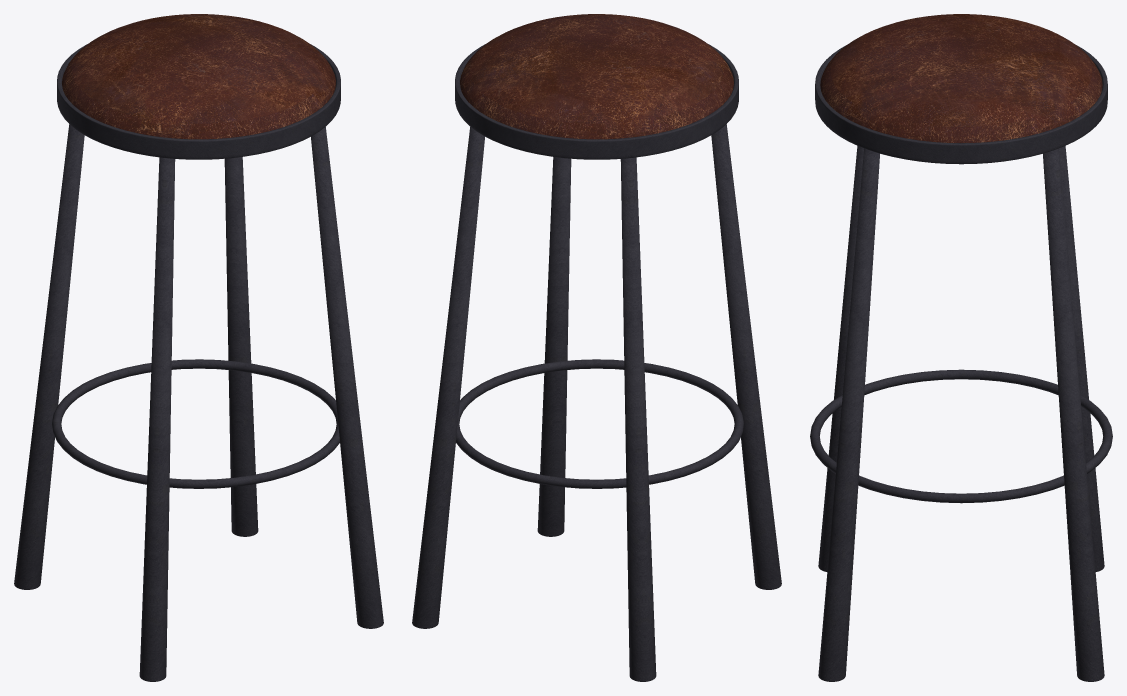
The model's file is chair.fbx.
3 renders of one model, left to right at view 1: azimuth 30°, elevation 25°; view 2: azimuth 150°, elevation 25°; view 3: azimuth 270°, elevation 25°, orthographic. The views are drawn at different scales.
Parts seen in each view (by area): view 1: Bar Stool; view 2: Bar Stool; view 3: Bar Stool.
Boxes of the visible parts, bbox=[...] form: Bar Stool: bbox=[14, 14, 383, 681]; Bar Stool: bbox=[412, 14, 781, 681]; Bar Stool: bbox=[810, 14, 1112, 681].
Bounding box in the file's own units: 46.42 × 97.81 × 46.42.
2 materials, 2 textured.
